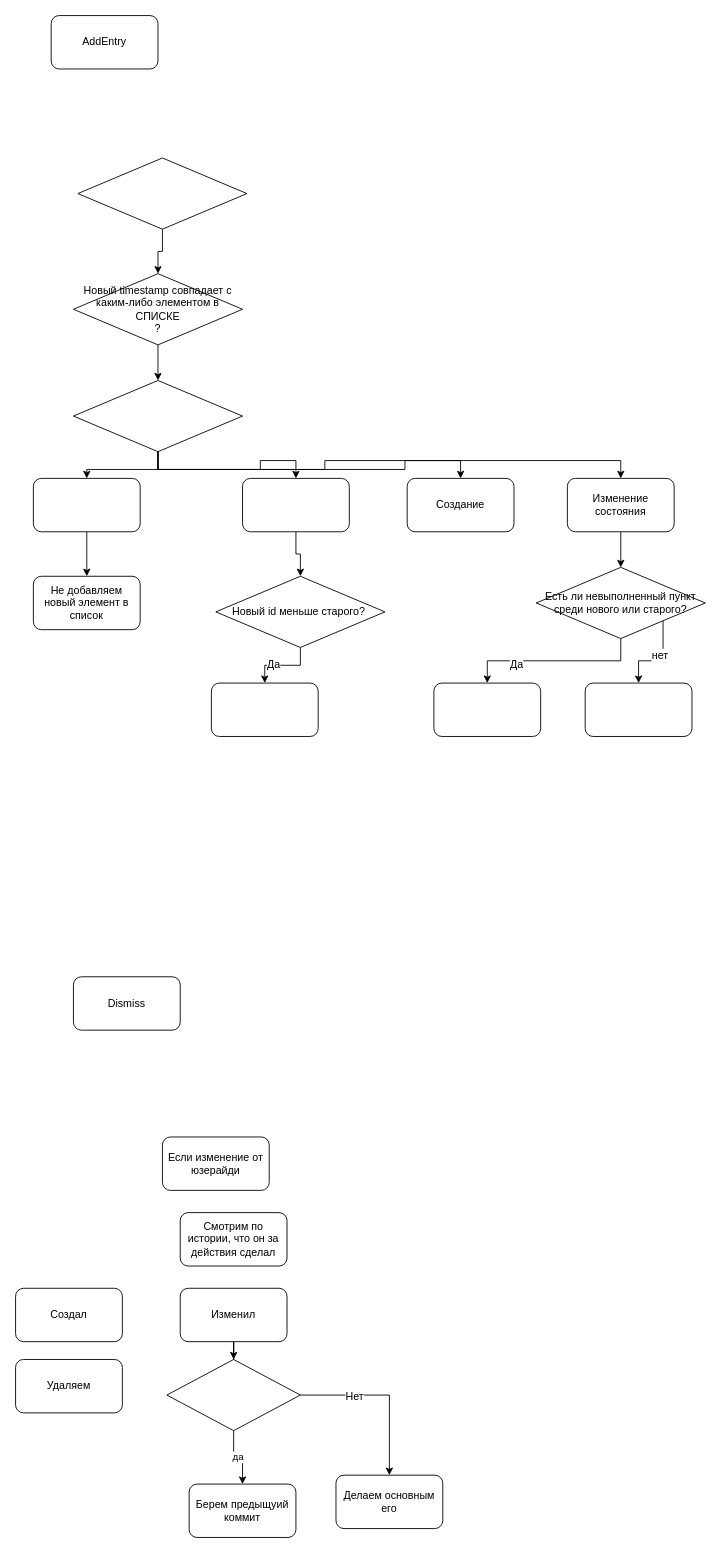
Some shapes in this 721 by 1553 pixel diagram are drawn without their labels. Each missing label, with the box of its shape:
Есть ли в истории элемент с таким же id?: (77, 157, 247, 229)
Переименование: (242, 477, 349, 532)
Переименовываем: (210, 682, 318, 736)
Пишем что пункт невыполнен: (433, 682, 541, 736)
Предыдущее по истории, изменение его?: (166, 1359, 300, 1431)
Пункт выполнен: (584, 682, 692, 736)
Удаление: (32, 477, 140, 532)
Что произошло в этот timestamp?: (73, 380, 243, 452)
